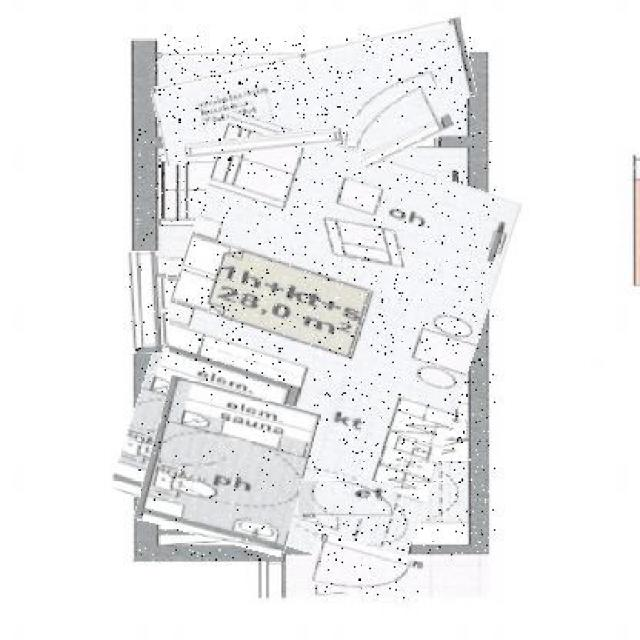door: (348, 89, 452, 160), (310, 542, 422, 603), (298, 480, 394, 518)
window: (128, 252, 169, 354), (185, 132, 342, 154)
zone: (137, 129, 495, 563), (154, 34, 475, 151), (143, 385, 312, 549)
